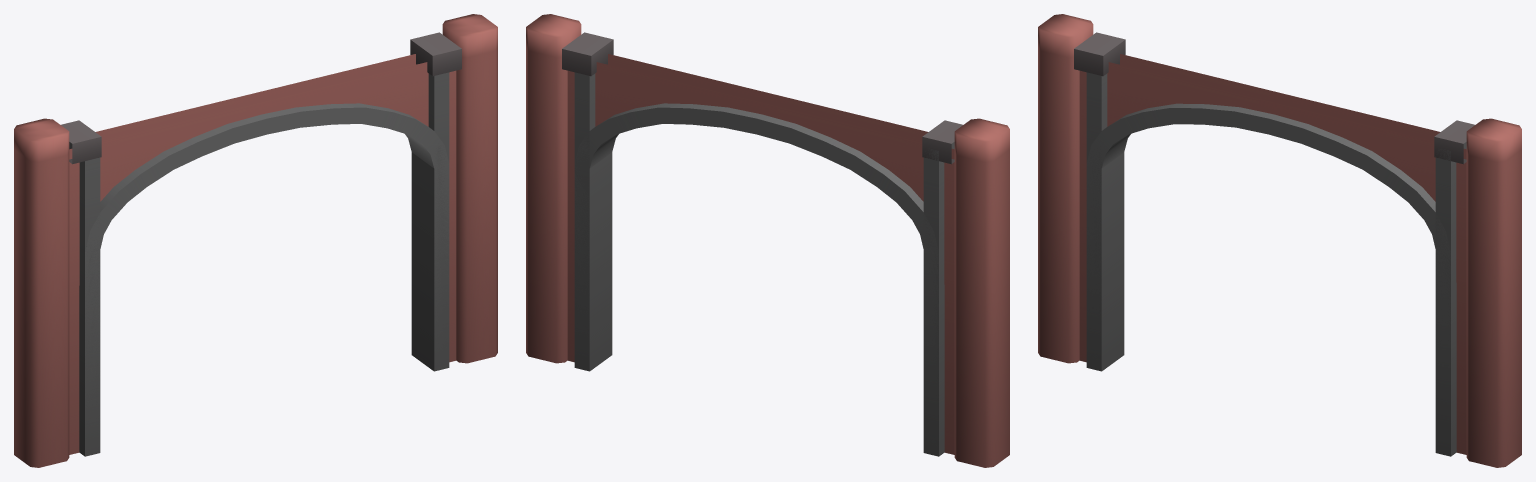
The model's file is arch-gateway.glb.
3 renders of one model, left to right at view 1: azimuth 30°, elevation 25°; view 2: azimuth 150°, elevation 25°; view 3: azimuth 330°, elevation 25°, orthographic.
Visible parts, largest first — view 1: Part_01_IndWallArchDouble_WallArchDouble, Part_02_IndWallArchDoubleColumns_WallArchDoubleColumns, Part_04_IndColumnFree_ColumnFree, Part_06_IndColumnFree_ColumnFree, Part_03_IndWallArchDoubleCapGrey_WallArchDoubleCapGrey, Part_05_IndColumnFreeCap_ColumnFreeCap, Part_07_IndColumnFreeCap_ColumnFreeCap; view 2: Part_01_IndWallArchDouble_WallArchDouble, Part_04_IndColumnFree_ColumnFree, Part_02_IndWallArchDoubleColumns_WallArchDoubleColumns, Part_06_IndColumnFree_ColumnFree, Part_03_IndWallArchDoubleCapGrey_WallArchDoubleCapGrey, Part_05_IndColumnFreeCap_ColumnFreeCap, Part_07_IndColumnFreeCap_ColumnFreeCap; view 3: Part_01_IndWallArchDouble_WallArchDouble, Part_06_IndColumnFree_ColumnFree, Part_02_IndWallArchDoubleColumns_WallArchDoubleColumns, Part_04_IndColumnFree_ColumnFree, Part_03_IndWallArchDoubleCapGrey_WallArchDoubleCapGrey, Part_07_IndColumnFreeCap_ColumnFreeCap, Part_05_IndColumnFreeCap_ColumnFreeCap.
Part boxes in pixels (x1,y1,x2,y2): Part_01_IndWallArchDouble_WallArchDouble: (85, 54, 449, 456); Part_02_IndWallArchDoubleColumns_WallArchDoubleColumns: (69, 70, 456, 456); Part_04_IndColumnFree_ColumnFree: (14, 149, 69, 467); Part_06_IndColumnFree_ColumnFree: (456, 47, 497, 363); Part_03_IndWallArchDoubleCapGrey_WallArchDoubleCapGrey: (61, 32, 461, 164); Part_05_IndColumnFreeCap_ColumnFreeCap: (14, 118, 69, 162); Part_07_IndColumnFreeCap_ColumnFreeCap: (442, 14, 497, 57); Part_01_IndWallArchDouble_WallArchDouble: (567, 54, 954, 456); Part_04_IndColumnFree_ColumnFree: (954, 149, 1009, 467); Part_02_IndWallArchDoubleColumns_WallArchDoubleColumns: (574, 72, 954, 456); Part_06_IndColumnFree_ColumnFree: (526, 47, 567, 363); Part_03_IndWallArchDoubleCapGrey_WallArchDoubleCapGrey: (562, 32, 962, 164); Part_05_IndColumnFreeCap_ColumnFreeCap: (954, 118, 1009, 162); Part_07_IndColumnFreeCap_ColumnFreeCap: (526, 14, 581, 57); Part_01_IndWallArchDouble_WallArchDouble: (1086, 54, 1450, 456); Part_06_IndColumnFree_ColumnFree: (1466, 149, 1521, 467); Part_02_IndWallArchDoubleColumns_WallArchDoubleColumns: (1079, 70, 1466, 456); Part_04_IndColumnFree_ColumnFree: (1038, 47, 1079, 363); Part_03_IndWallArchDoubleCapGrey_WallArchDoubleCapGrey: (1074, 32, 1474, 164); Part_07_IndColumnFreeCap_ColumnFreeCap: (1466, 118, 1521, 162); Part_05_IndColumnFreeCap_ColumnFreeCap: (1038, 14, 1093, 57).
Bounding box in the file's own units: 4.8 × 3.2 × 0.4.
7 materials, 7 textured.
